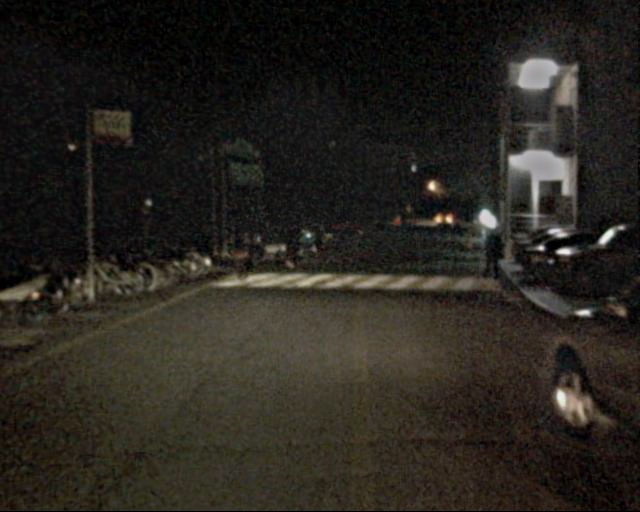person: (476, 226, 504, 294), (220, 221, 246, 284), (274, 223, 294, 272)
